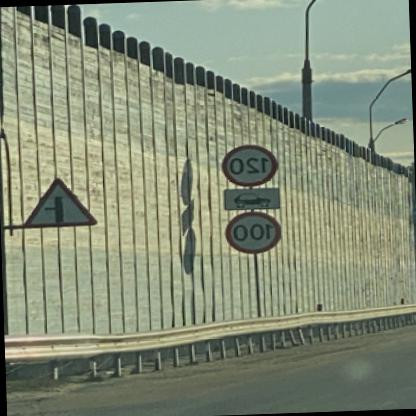speedlimit: (223, 142, 280, 188), (226, 210, 284, 254)
